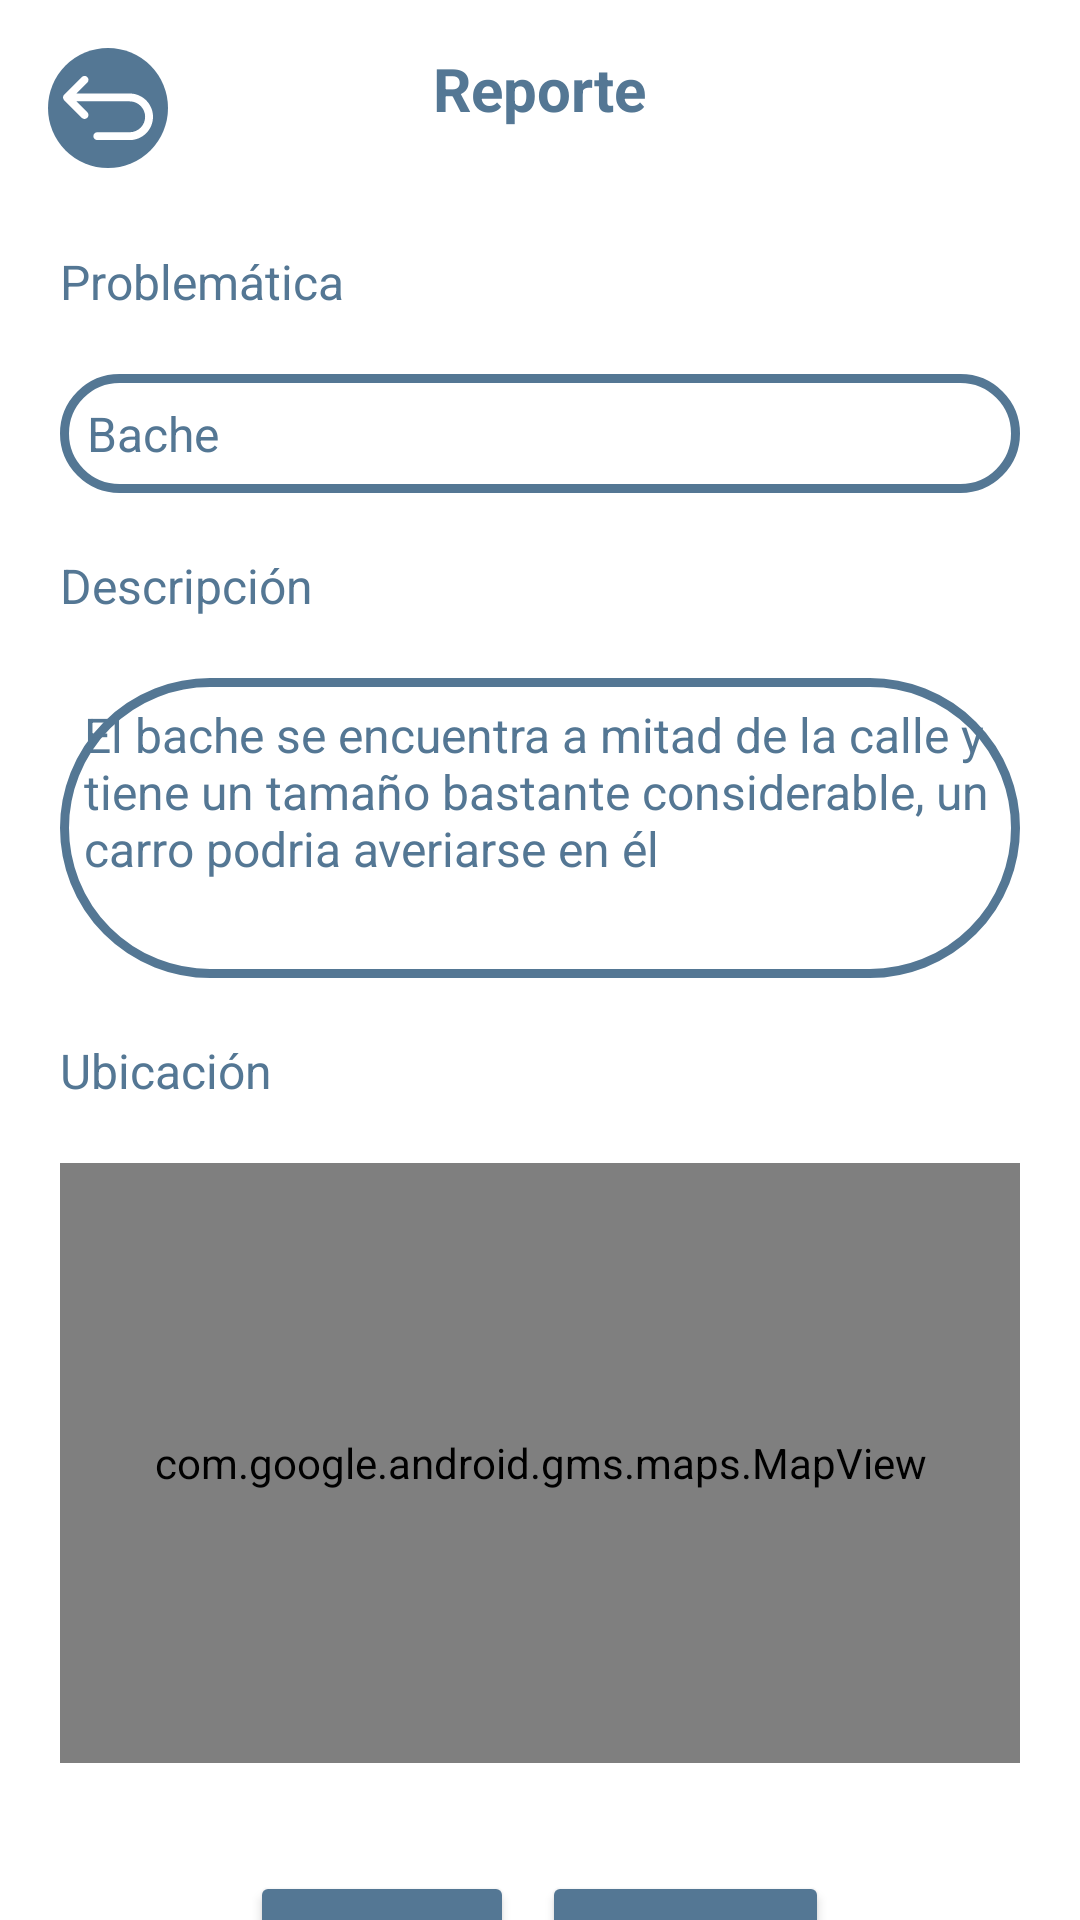

Icons on this 1080w x 1920h Android screen, each with the point to tap as (x,y):
Regresar: (108,108)
